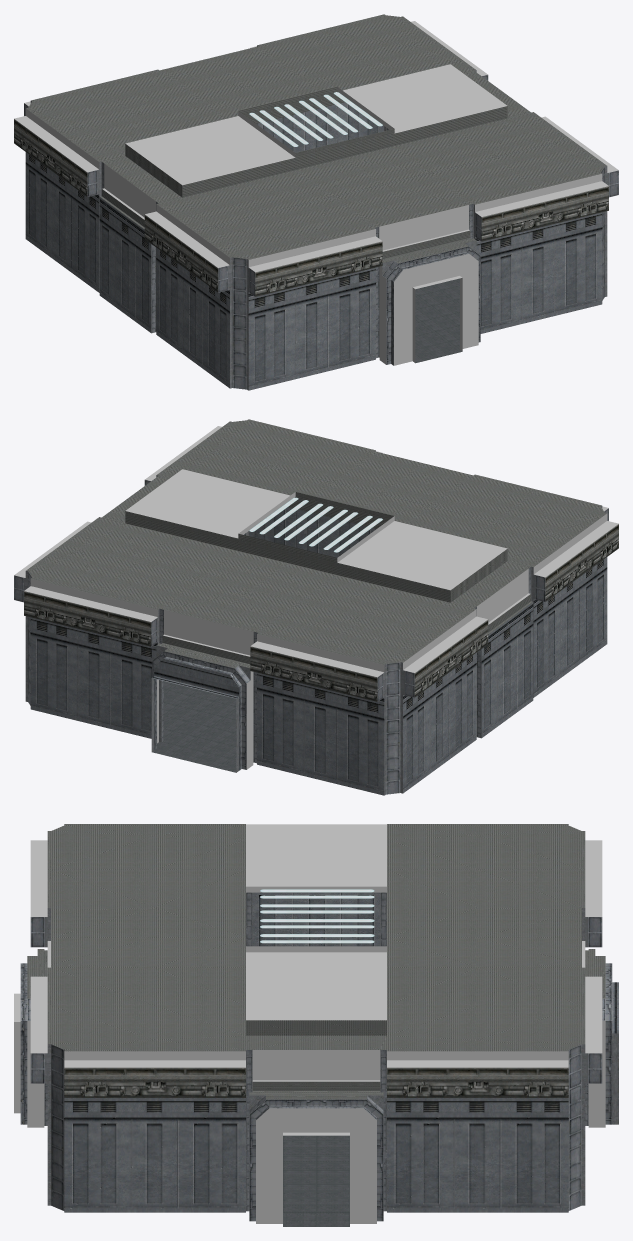
File: poi_all_impl_bunker_warren_s01_r28_smallroom28_mesh_r28.fbx
3 views of the same model, one above another, from view 1: azimuth 30°, elevation 25°; view 2: azimuth 150°, elevation 25°; view 3: azimuth 270°, elevation 25° (orthographic). The views are drawn at different scales.
Visible parts, largest first — view 1: mesh_node; view 2: mesh_node; view 3: mesh_node.
Part boxes in pixels (x1,y1,x2,y2): mesh_node: (14,14,618,390); mesh_node: (14,419,618,795); mesh_node: (14,824,618,1226).
Size of the model in its own units: 17.5 by 6 by 18.
